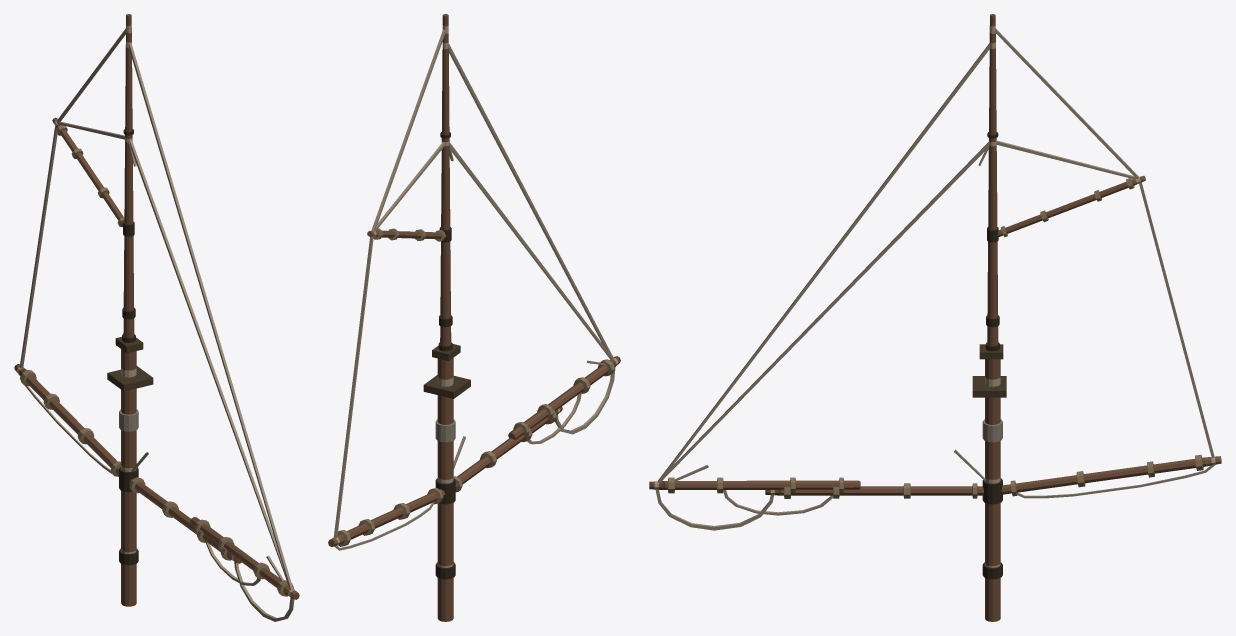
The model's file is SM_Veh_Boat_Medium_01_Mast.glb.
3 views of the same model, side by side, from view 1: azimuth 30°, elevation 25°; view 2: azimuth 150°, elevation 25°; view 3: azimuth 270°, elevation 25° (orthographic). The views are drawn at different scales.
Visible parts, largest first — view 1: SM_Veh_Boat_Medium_01_Mast; view 2: SM_Veh_Boat_Medium_01_Mast; view 3: SM_Veh_Boat_Medium_01_Mast.
Boxes of the visible parts, box(x1,y1,x2,y2) form: SM_Veh_Boat_Medium_01_Mast: box(14, 14, 299, 621); SM_Veh_Boat_Medium_01_Mast: box(328, 14, 620, 621); SM_Veh_Boat_Medium_01_Mast: box(649, 14, 1221, 621).
Size of the model in its own units: 0.00994 by 0.1899 by 0.1634.
Materials: 1 (1 with a texture image).
